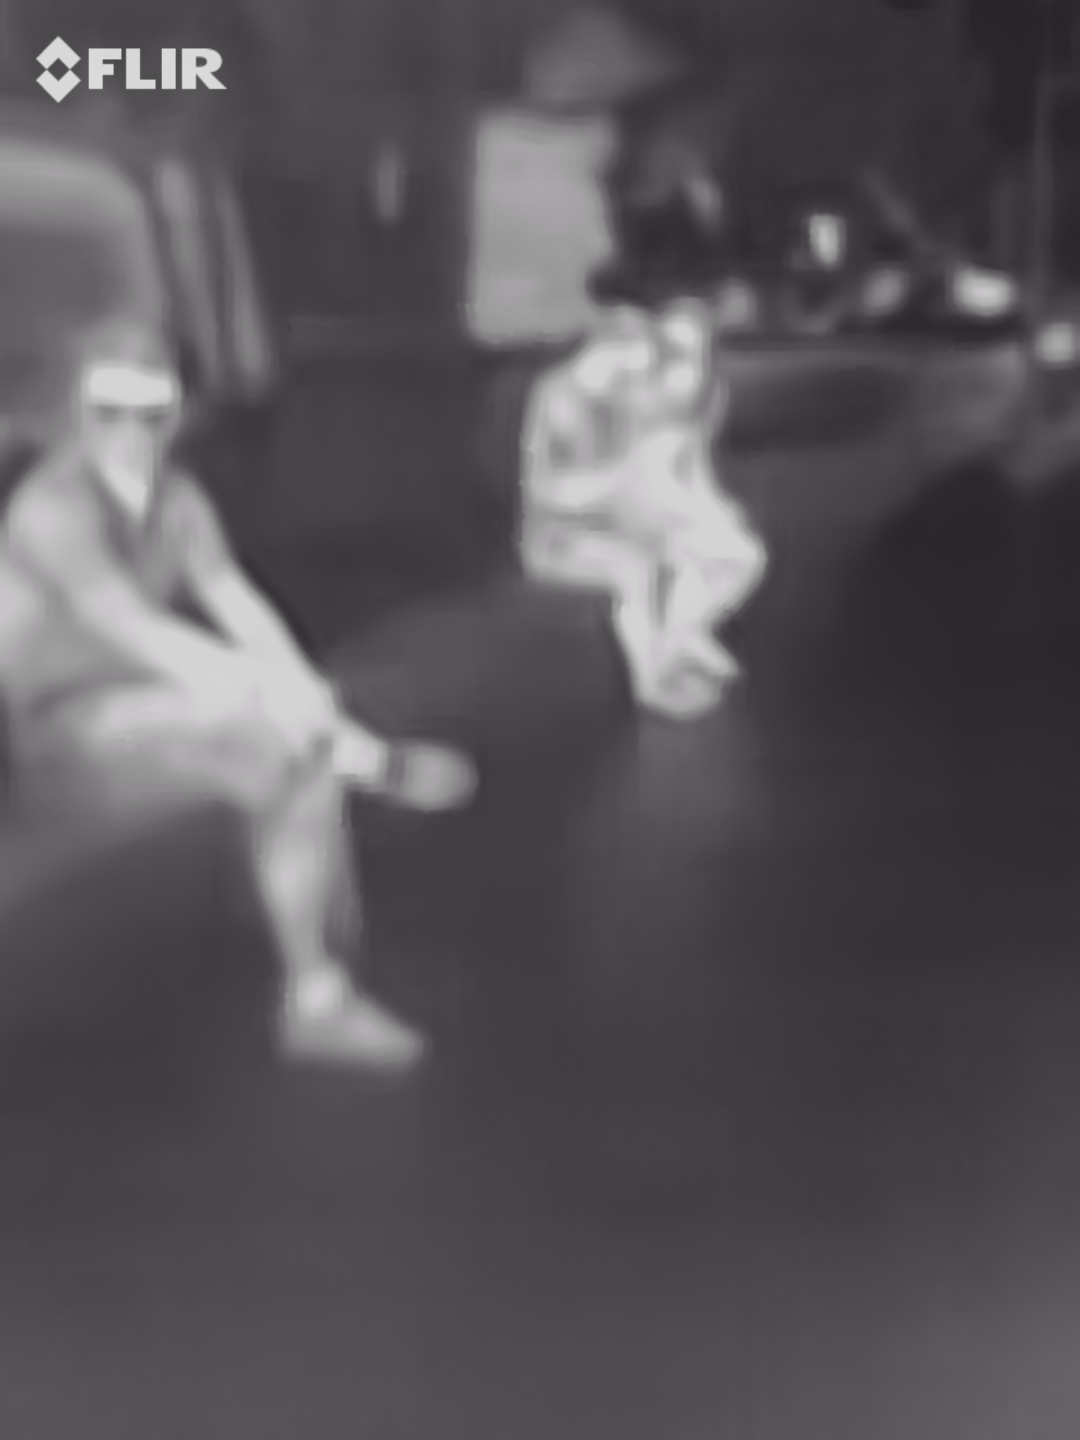head: (69, 310, 194, 495)
